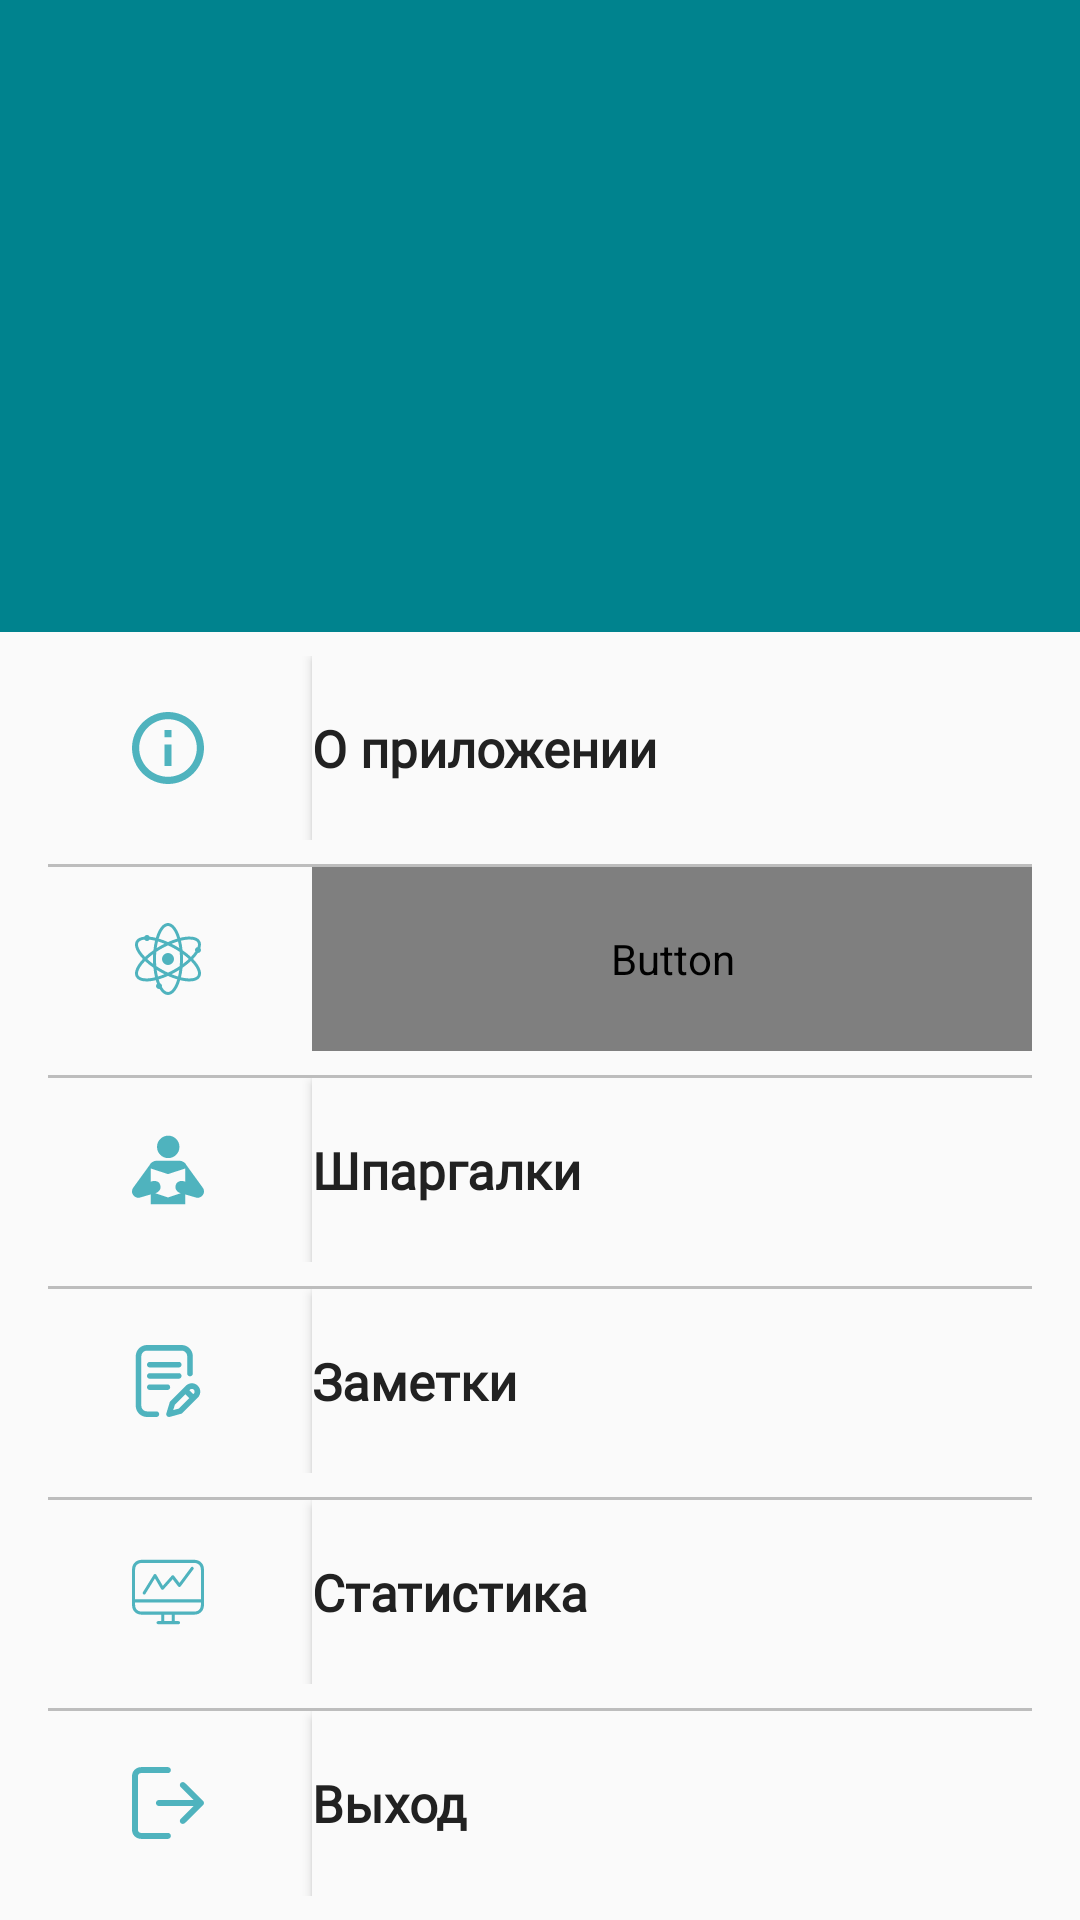

Icons on this 1080×1920 Android screen, each with the point to tap as (x,y):
start activity cheat: (168,1170)
start activity exit: (168,1803)
start activity information: (168,748)
start activity notes: (168,1381)
start activity statistics: (168,1592)
start activity theory: (168,959)
